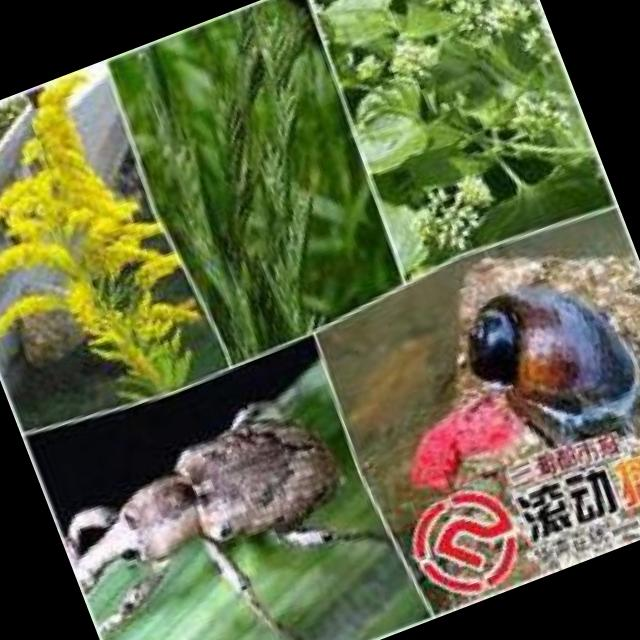rice-bug: (42, 382, 366, 632)
